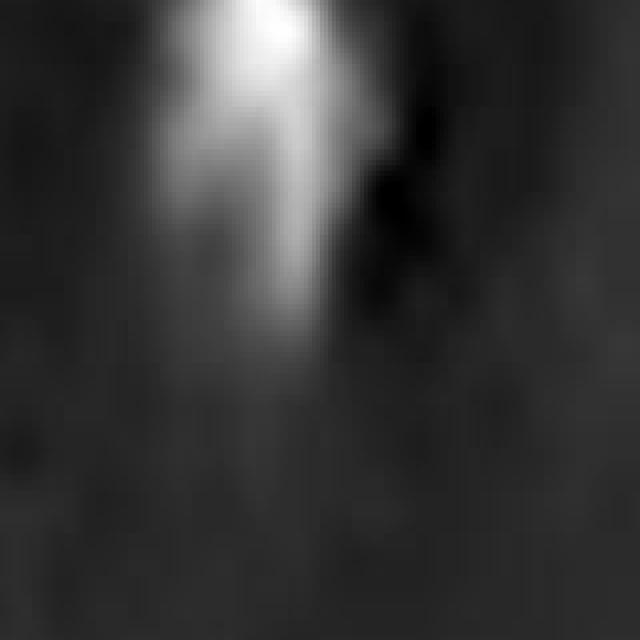person: (161, 1, 401, 364)
